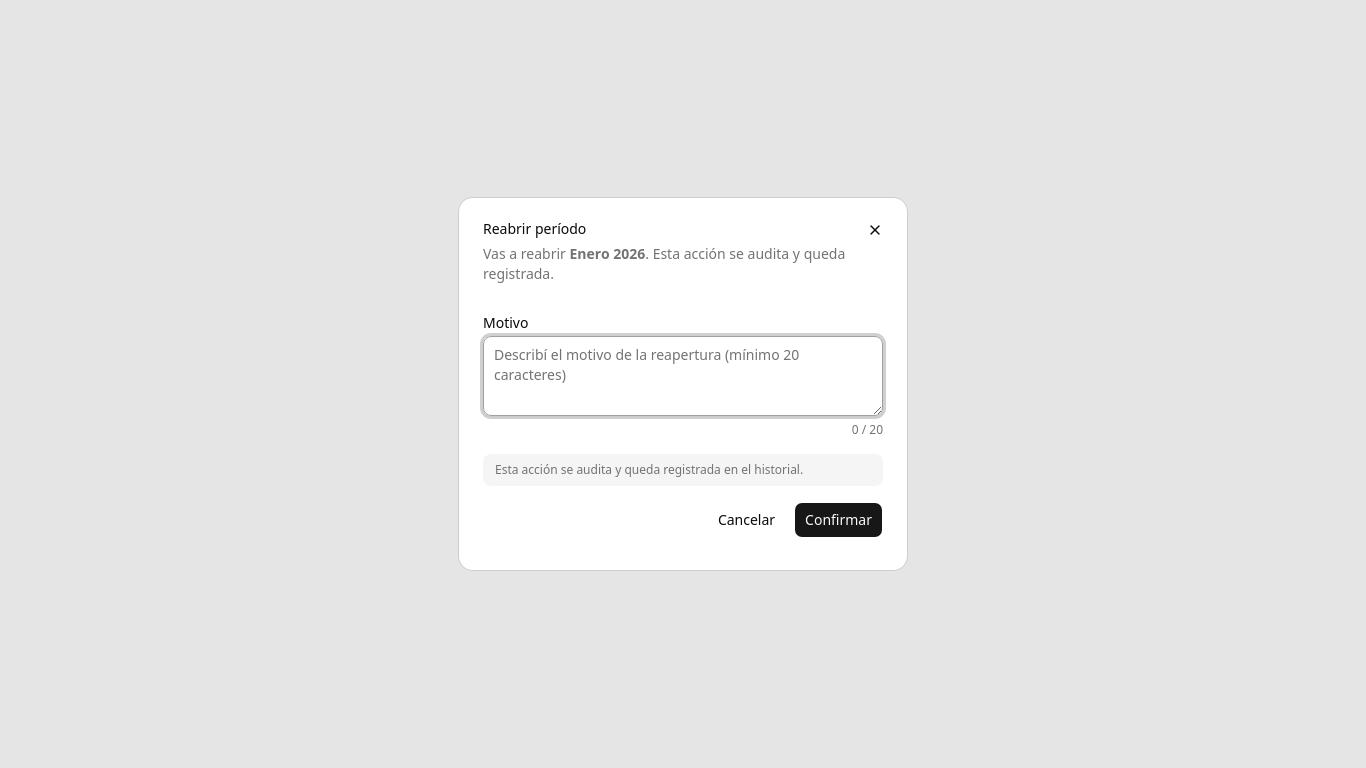
Test: ReabrirPeriodoDialog › motivo de 19 chars → submit deshabilitado y error visible
# 19 chars — no llega a 20
Type "motivo corto123456x" into the text box labelled "Motivo" at (683, 376), box [483,336,883,416]
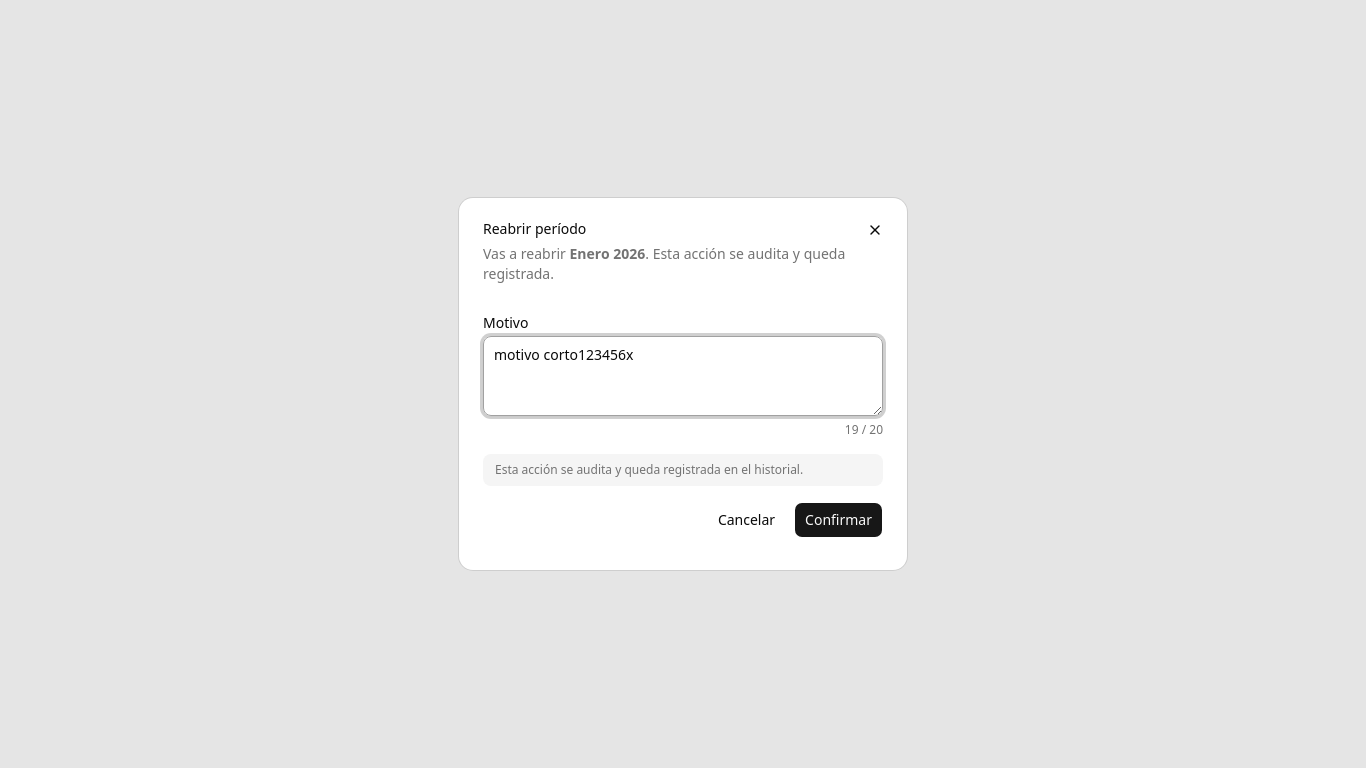
Click the button "Confirmar" at (839, 520), box [794,502,883,538]
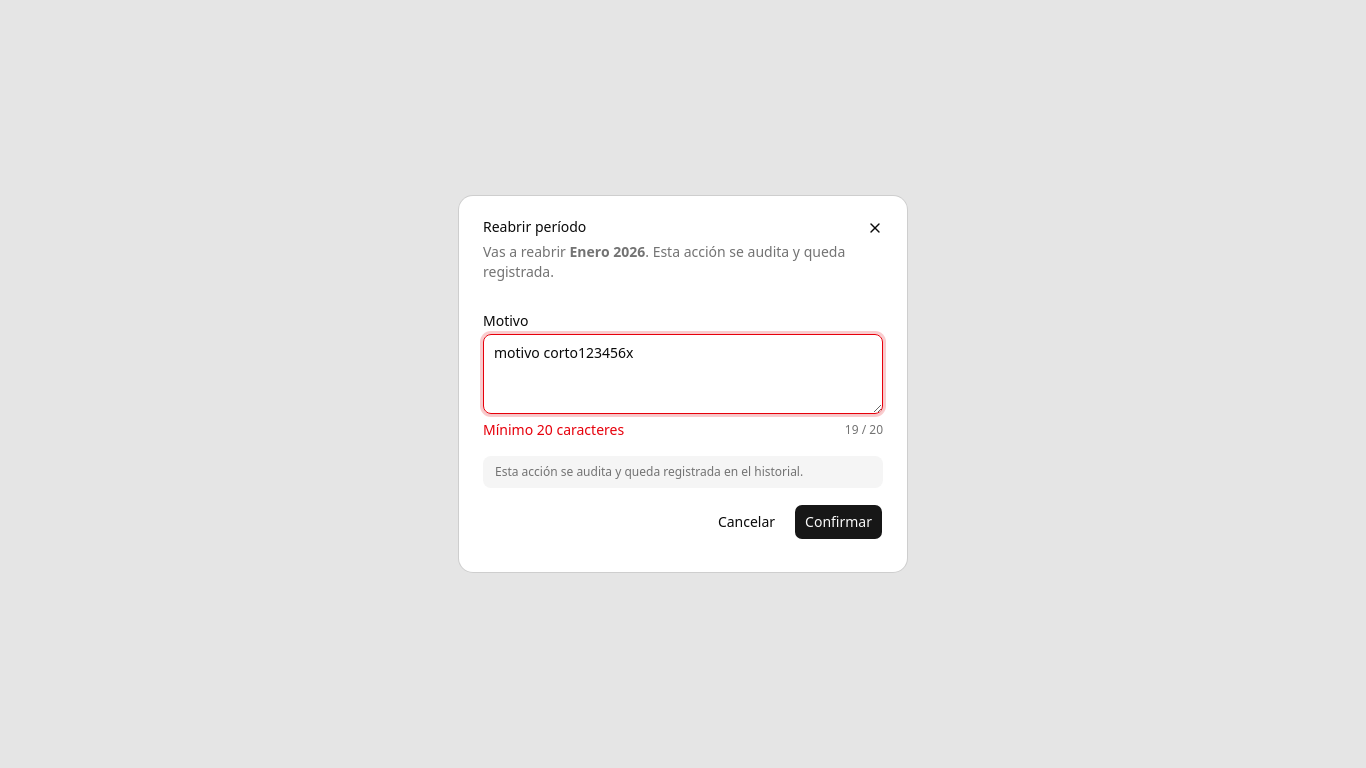
Expected: the text "Mínimo 20 caracteres" is shown, [483,420,624,440]
